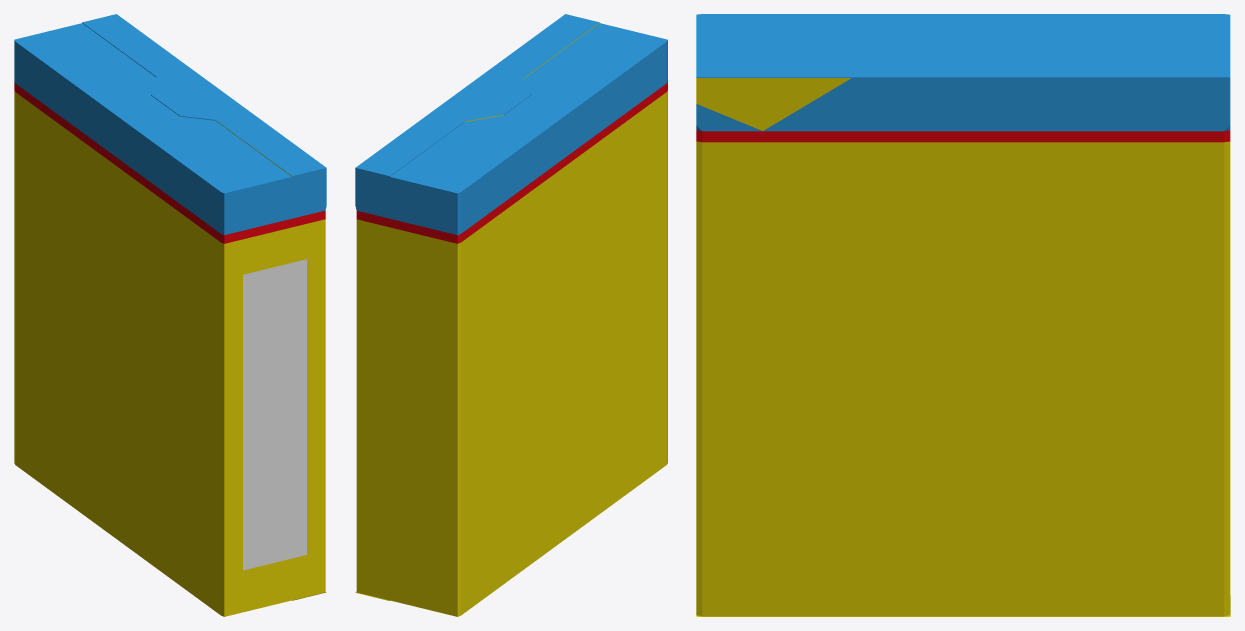
The model's file is cereal_box.fbx.
The picture shows the model from 3 angles, left to right: view 1: azimuth 30°, elevation 25°; view 2: azimuth 150°, elevation 25°; view 3: azimuth 270°, elevation 25°; orthographic projection. The views are drawn at different scales.
Parts seen in each view (by area): view 1: cereal; view 2: cereal; view 3: cereal.
Boxes of the visible parts, x1,y1,x2,y2 form: cereal: (14,14,326,616); cereal: (355,14,667,616); cereal: (696,14,1230,616).
Bounding box in the file's own units: 69.68 × 273 × 245.
